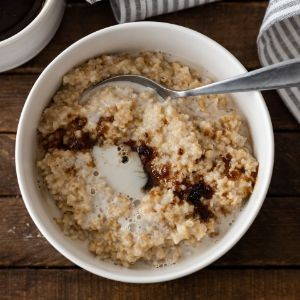oat_brain food: (78, 150, 213, 224)
